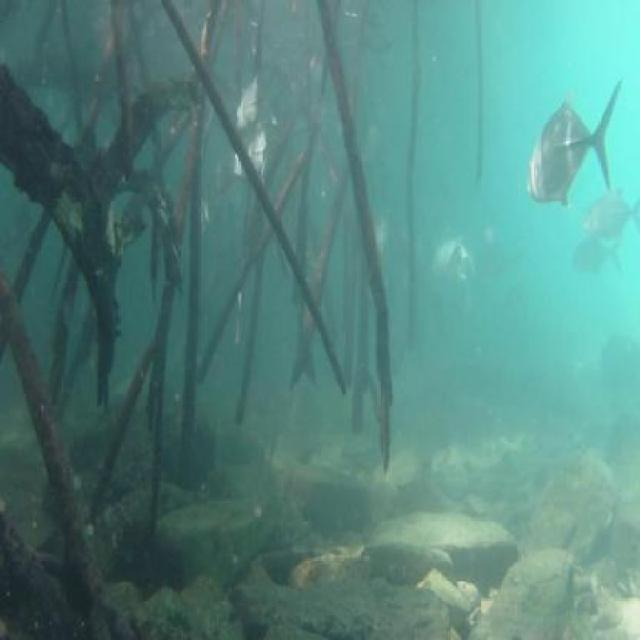Caranx_sexfasciatus_juvenile: (524, 75, 613, 223), (578, 180, 640, 249), (422, 232, 476, 300), (562, 228, 620, 282), (224, 64, 262, 131), (233, 127, 270, 188)
